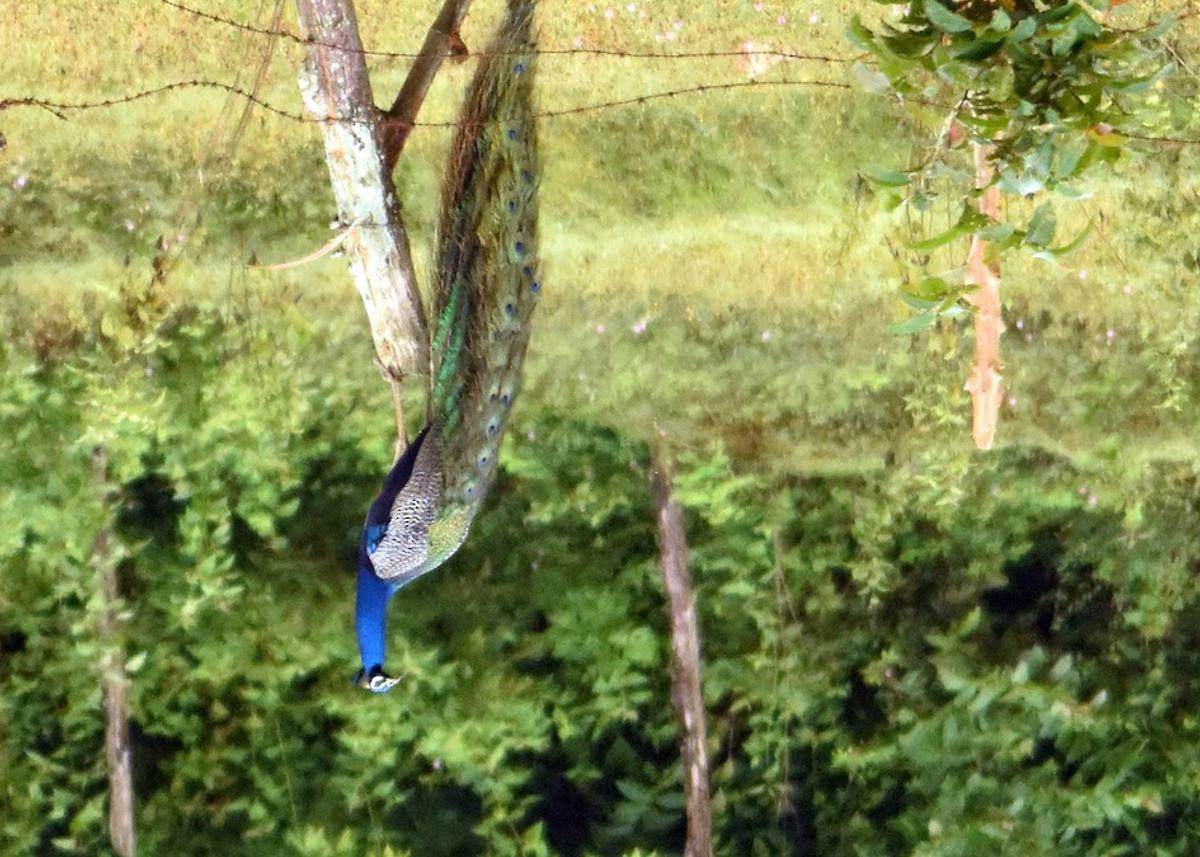peacock: (308, 44, 618, 735)
